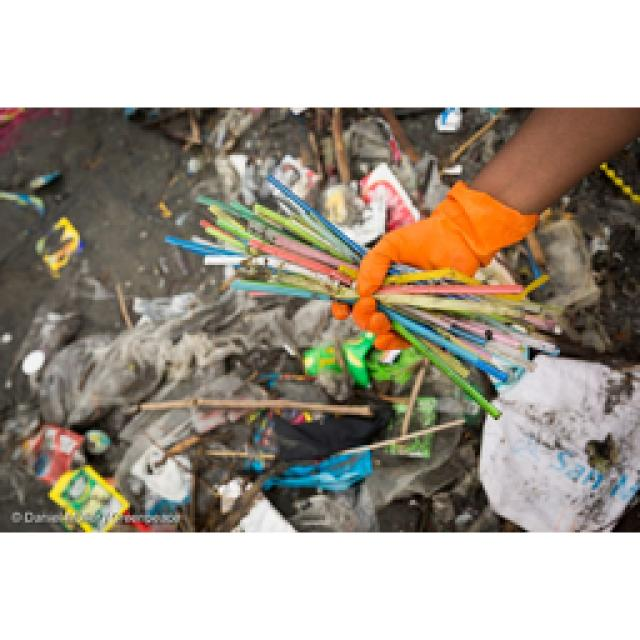plastic: (162, 170, 560, 418)
